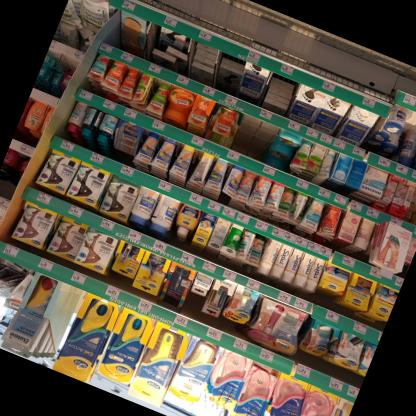empty_space: (230, 111, 264, 154), (251, 120, 281, 157)
